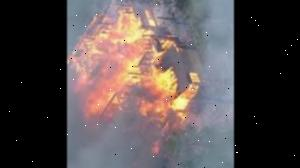fire: (66, 21, 190, 134)
